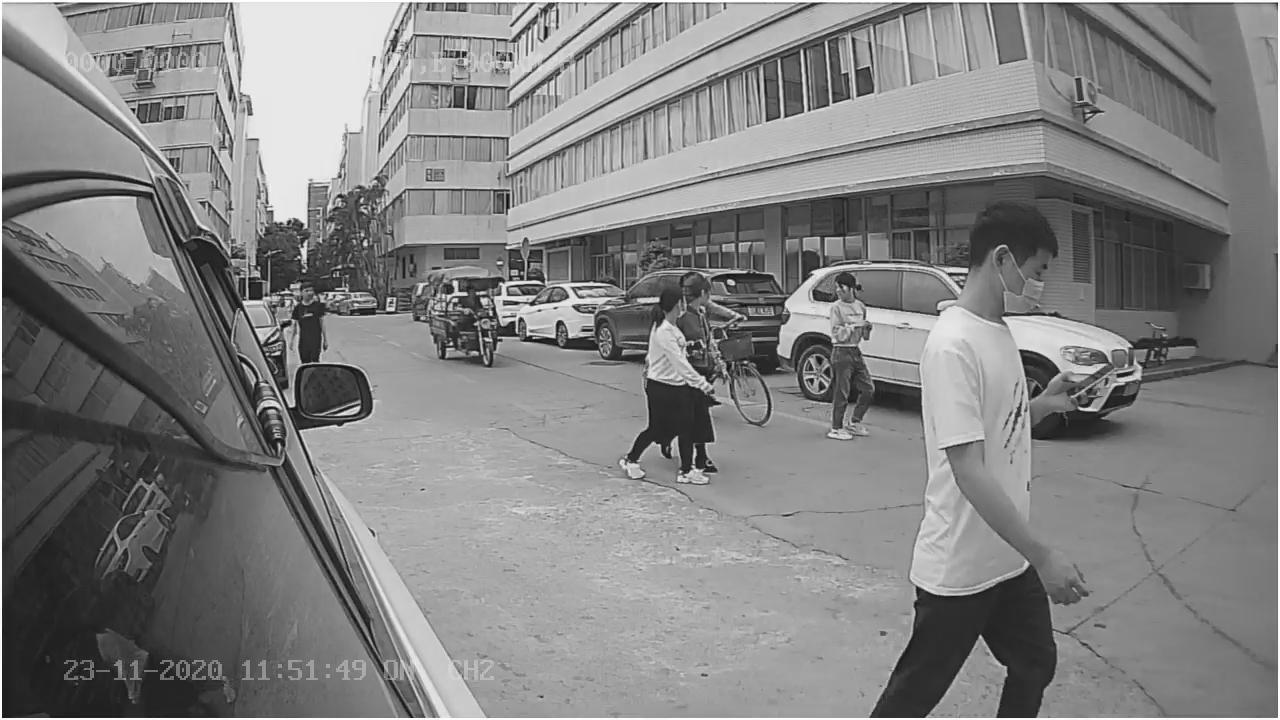person: (613, 286, 716, 485)
